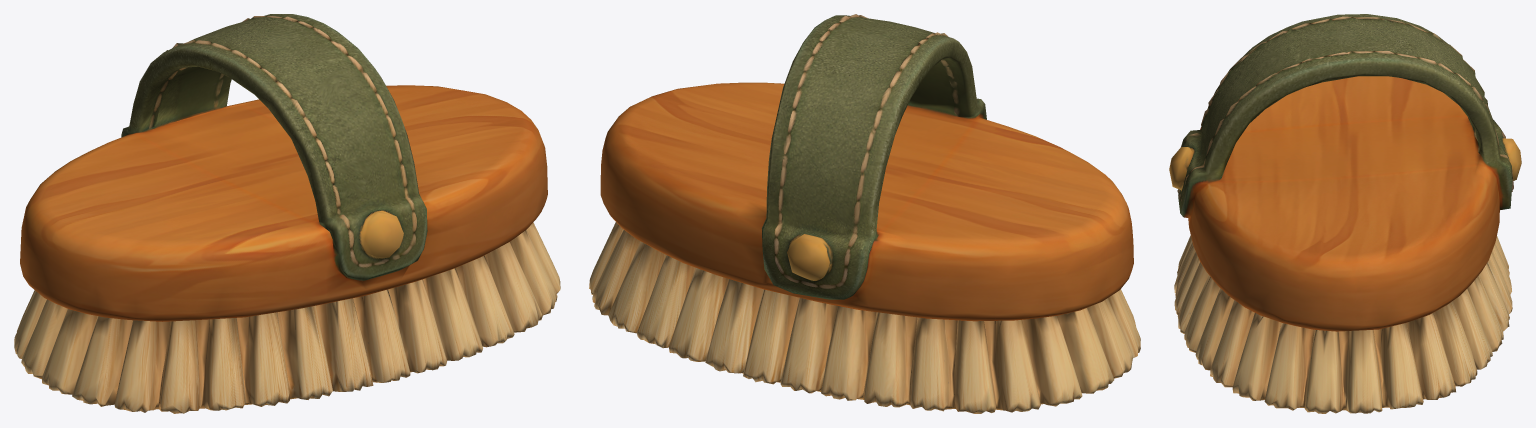
The model's file is tripo_convert_b61a32d9-b69e-406d-a143-63c06bfa56fc ( Brush).fbx.
3 renders of one model, left to right at view 1: azimuth 30°, elevation 25°; view 2: azimuth 150°, elevation 25°; view 3: azimuth 270°, elevation 25°, orthographic. The views are drawn at different scales.
Visible parts, largest first — view 1: tripo_node_b61a32d9; view 2: tripo_node_b61a32d9; view 3: tripo_node_b61a32d9.
Boxes of the visible parts, x1,y1,x2,y2 form: tripo_node_b61a32d9: (14, 14, 560, 413); tripo_node_b61a32d9: (589, 14, 1140, 413); tripo_node_b61a32d9: (1169, 14, 1521, 413).
Bounding box in the file's own units: 0.9795 × 0.5381 × 0.6393.
